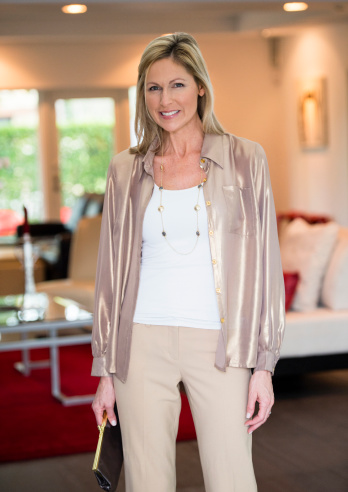em pe: (65, 26, 304, 492)
